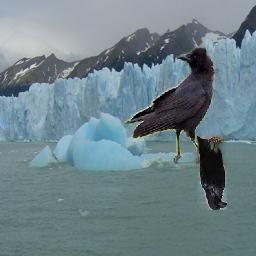Crow: (123, 46, 215, 164), (197, 136, 227, 210)
